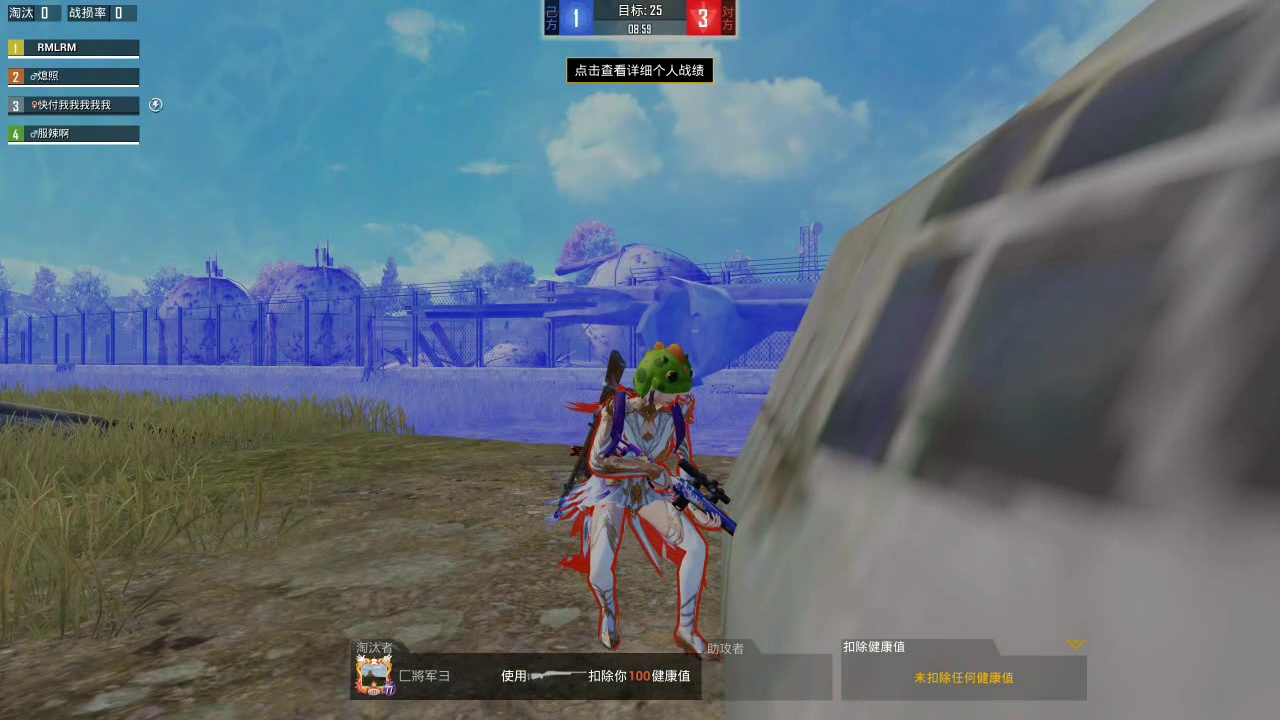enemy: (570, 345, 709, 654)
